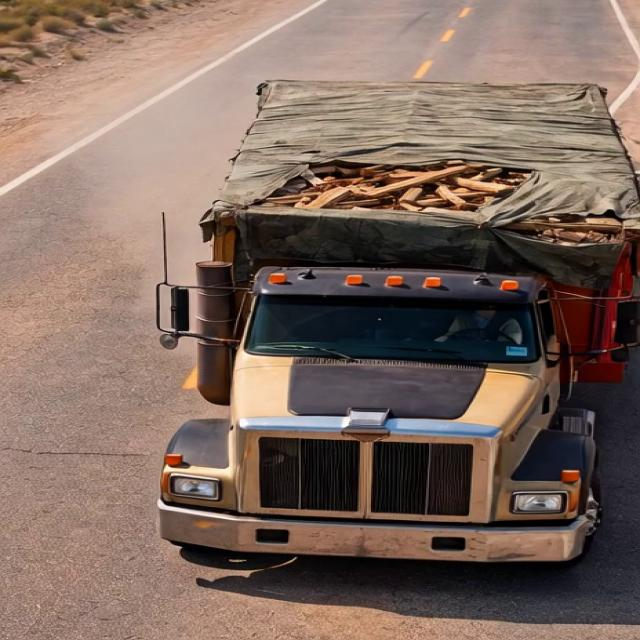Box: (200, 77, 634, 247)
Truck: (120, 39, 640, 575)
